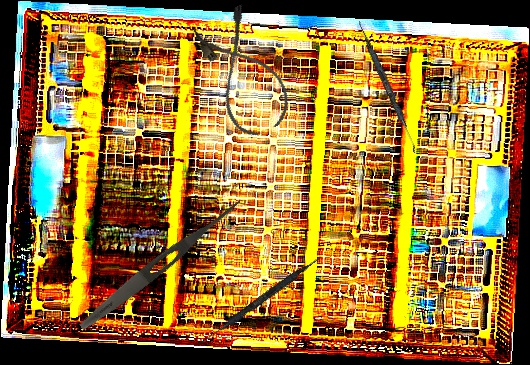Cannula: (188, 2, 299, 143)
Dressing Forceps: (75, 193, 246, 335)
Spatula Surgical: (197, 251, 323, 350), (353, 20, 422, 154)
